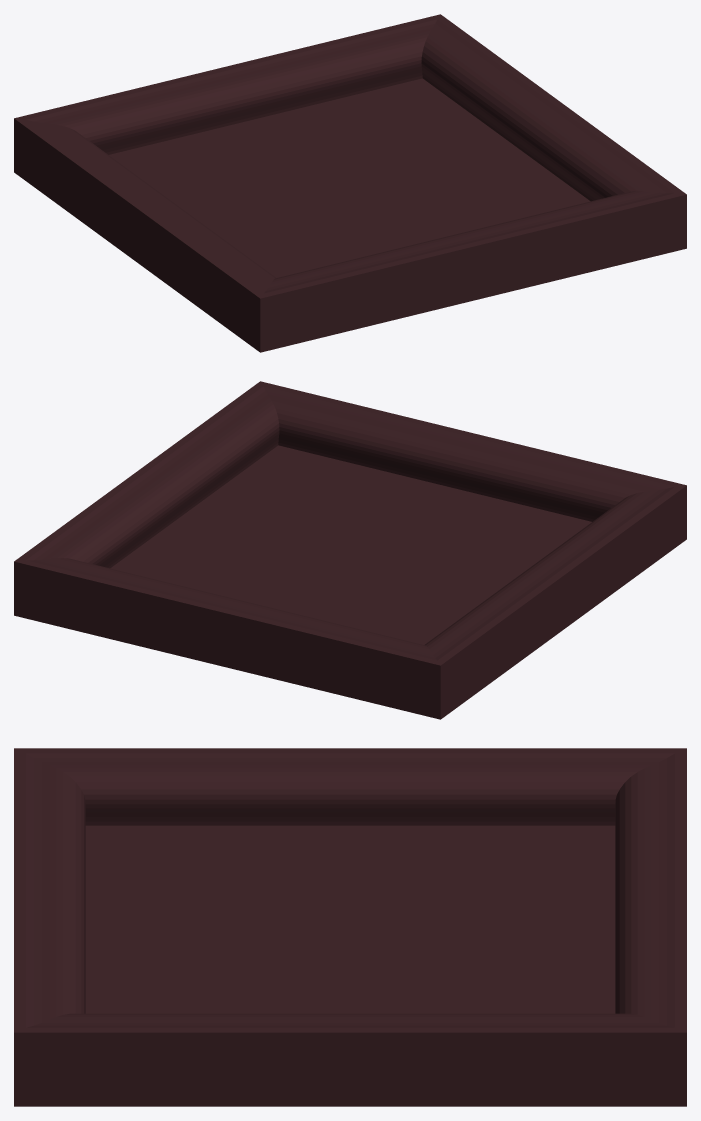
The model's file is DiceSlot.fbx.
3 views of the same model, one above another, from view 1: azimuth 30°, elevation 25°; view 2: azimuth 150°, elevation 25°; view 3: azimuth 270°, elevation 25° (orthographic). The views are drawn at different scales.
Parts seen in each view (by area): view 1: Cube; view 2: Cube; view 3: Cube.
Boxes of the visible parts, box(x1,y1,x2,y2) form: Cube: box(14, 14, 686, 352); Cube: box(14, 381, 686, 719); Cube: box(14, 748, 686, 1106).
Bounding box in the file's own units: 203 × 24.57 × 203.
